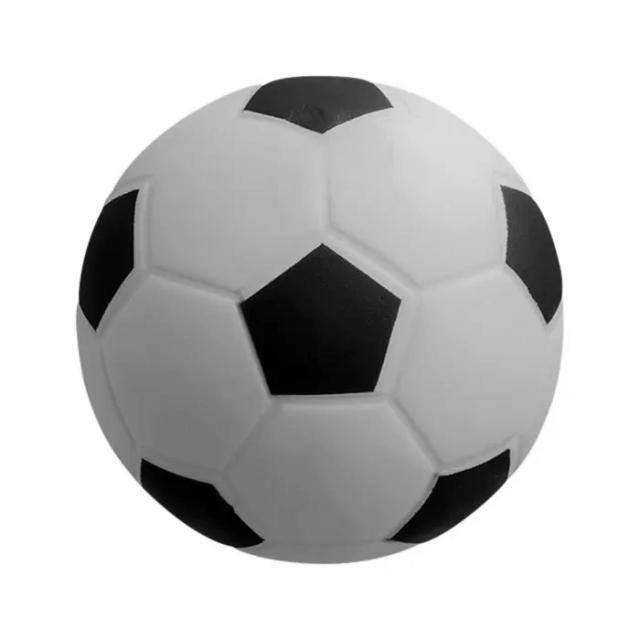ball: (75, 73, 565, 564)
